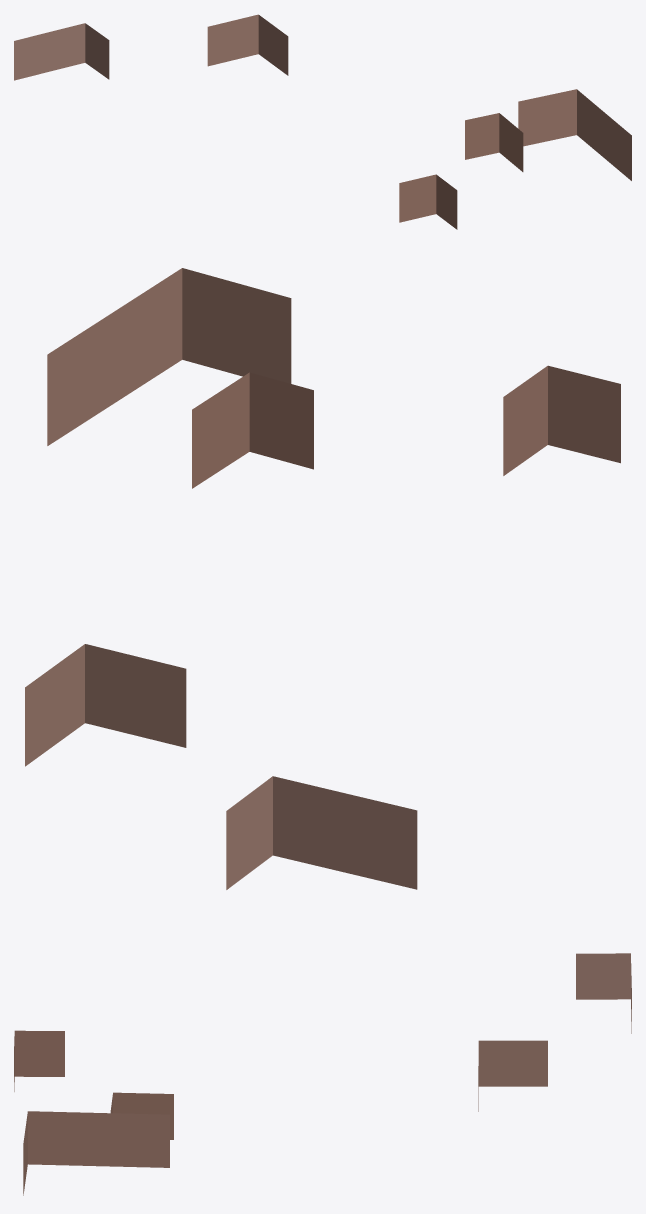
File: c_1625_17836_buildings_residential.glb
The picture shows the model from 3 angles, top to bottom: view 1: azimuth 30°, elevation 25°; view 2: azimuth 150°, elevation 25°; view 3: azimuth 270°, elevation 25°; orthographic projection. The views are drawn at different scales.
Parts seen in each view (by area): view 1: geometry_0; view 2: geometry_0; view 3: geometry_0.
Boxes of the visible parts, x1,y1,x2,y2 form: geometry_0: [14, 14, 631, 229]; geometry_0: [25, 268, 620, 889]; geometry_0: [14, 953, 631, 1195].
Size of the model in its own units: 90.8 by 12.02 by 116.
